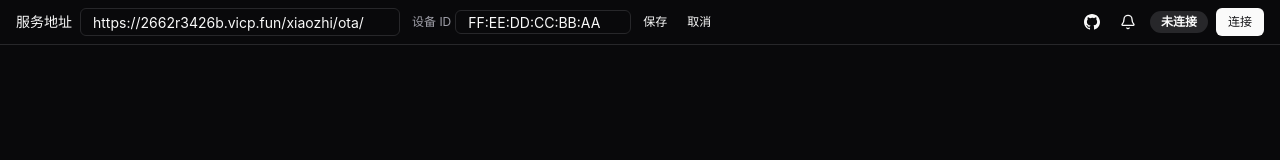
Scenario: ConnectionHeader 编辑流程 › 点击"保存"按钮提交修改并退出编辑模式
Step 1. Click the button "保存" → (655, 22), box [635, 10, 675, 34]
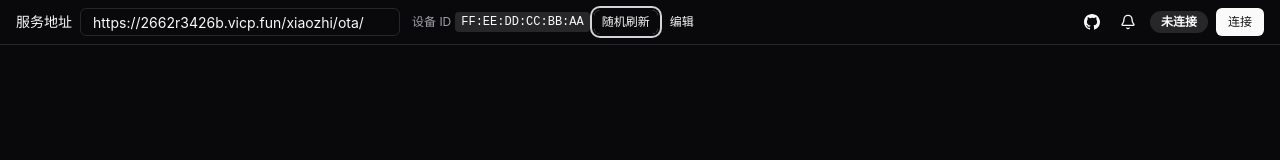
Expected: the text "FF:EE:DD:CC:BB:AA" is shown, [455, 12, 590, 32]
